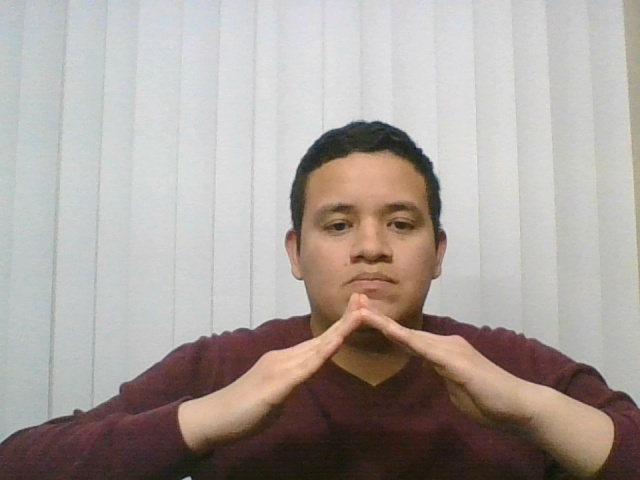House: (184, 276, 578, 463)
